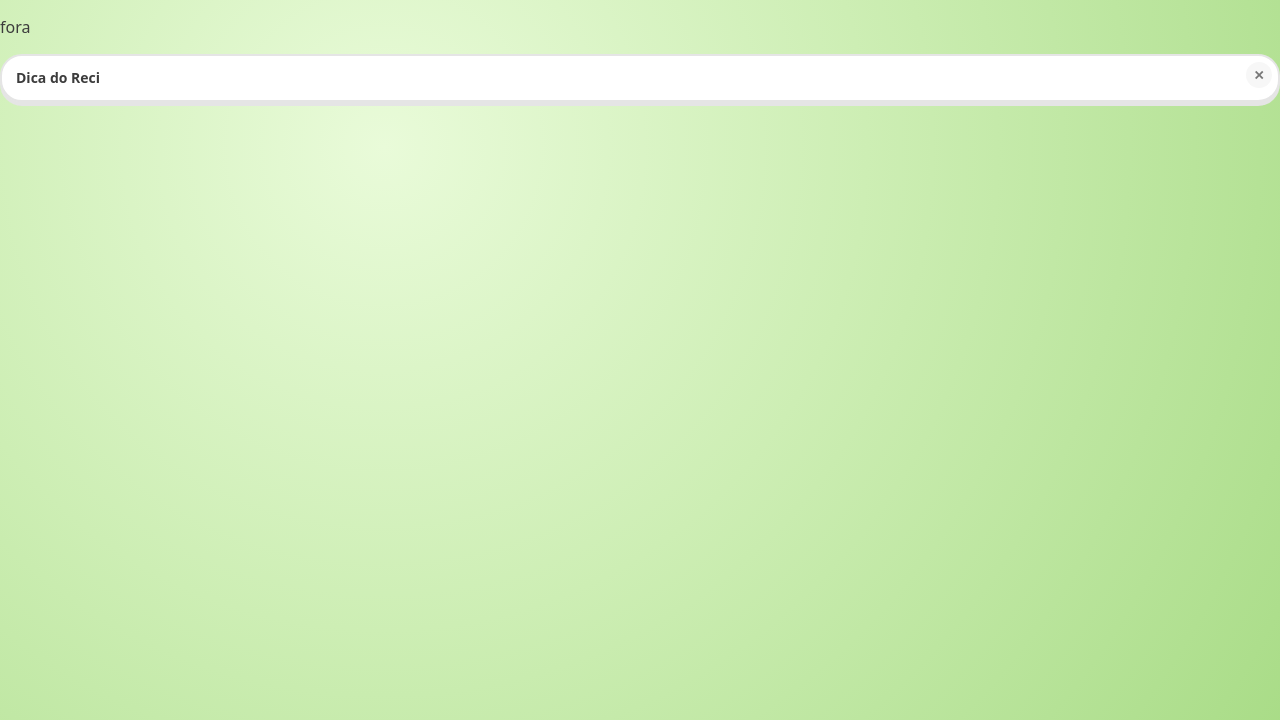
Balloon (TIP-02, TIP-04) › closes when ✕ is tapped
Check: the text "Dica do Reci" is shown, box [16,68,100,87]
Click the button named "Fechar".
click(1259, 75)  # box [1246,62,1272,88]
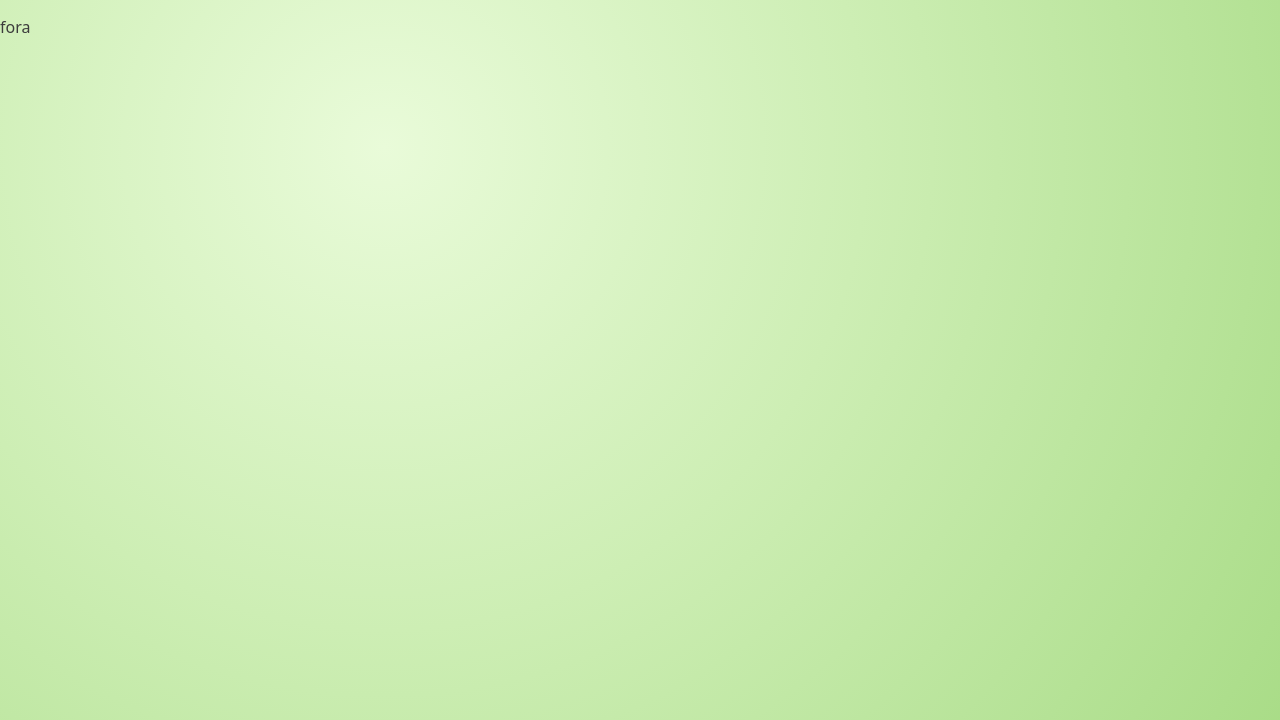
Check: the text "Dica do Reci" is gone
